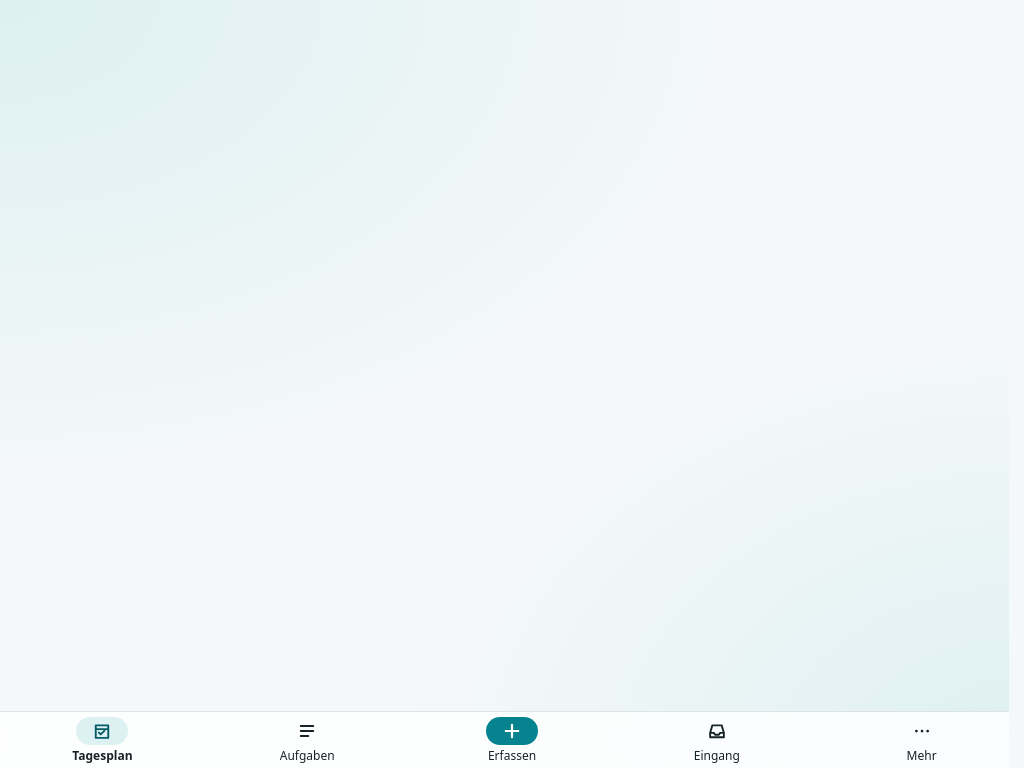
Scenario: phone frame: "Mehr" › is the modal as a sheet with every other view in the fixed order
The width and height of the screenshot is (1024, 768).
What coordinates should you click on to do the following:
click the button "Mehr"
I would click on:
 (922, 740)
Its box is [819,712,1023,767].
(page scrolled)
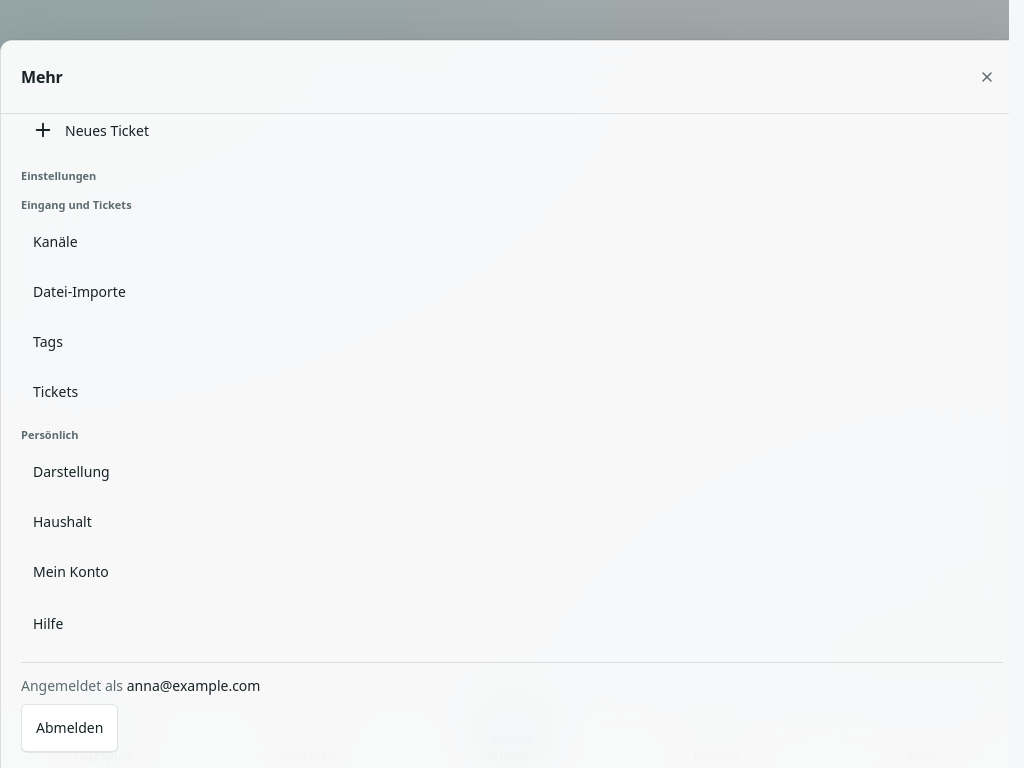
Expected: the text "Angemeldet als anna@example.com" is shown, [21,676,260,694]
Expected: the button "Abmelden" is shown, [21,704,118,752]
